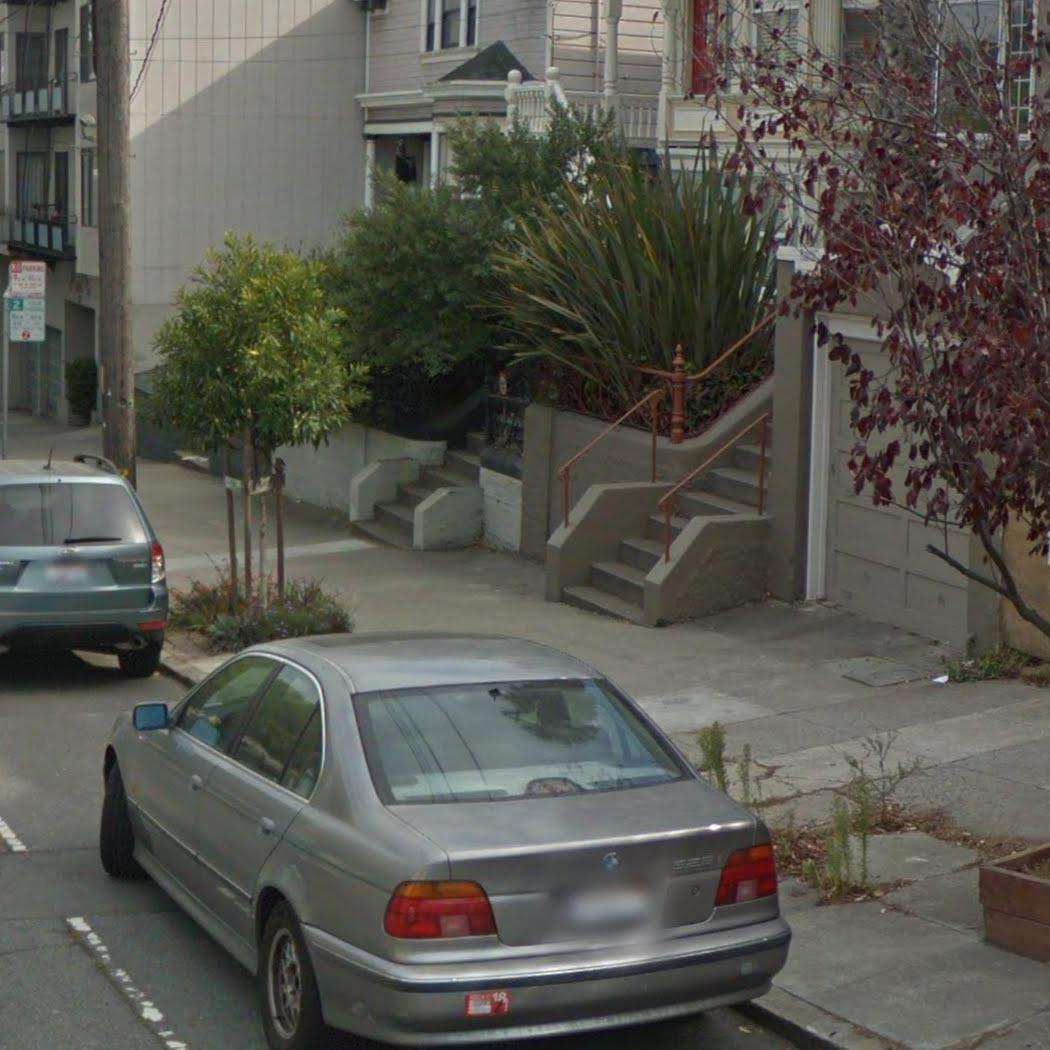2 Hour Parking: (5, 296, 49, 345)
No Parking: (5, 256, 48, 302)
